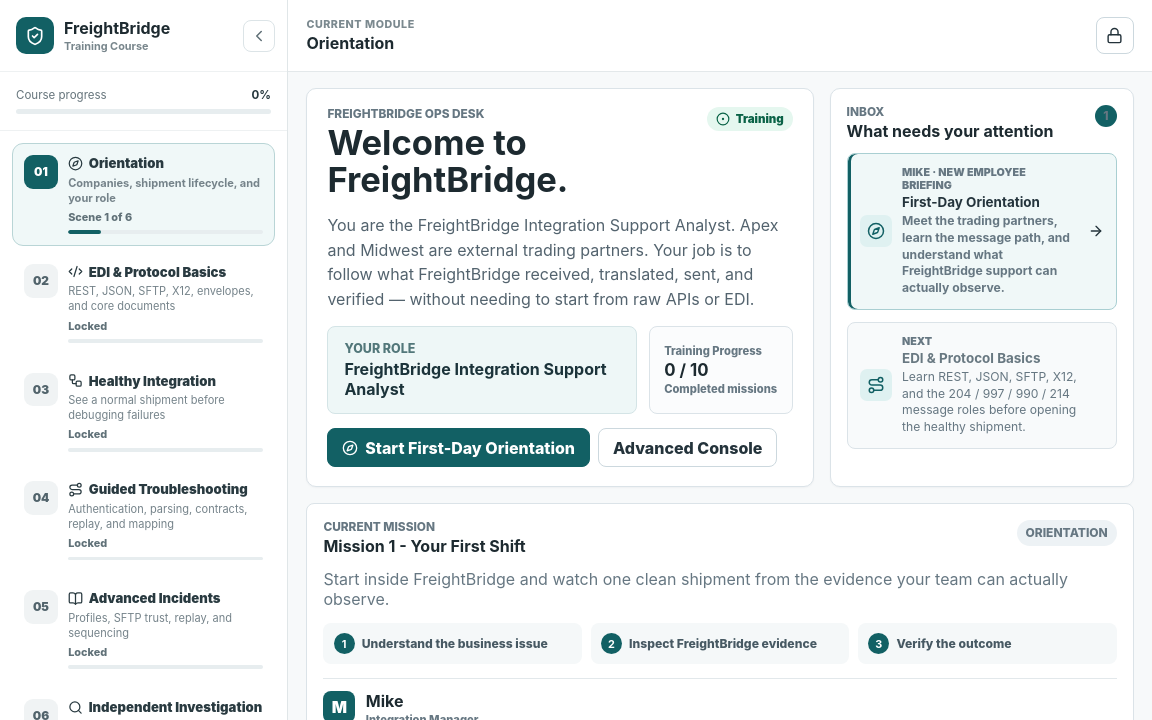
Test: Analyst Console › renders Training Home and navigates to the Advanced Console
Check: the element with test id "training-desk" is shown, box left=306, top=88, right=814, bottom=487
Check: the element with test id "ops-inbox" shows "Inbox", box left=847, top=105, right=884, bottom=119
What coordinates should you click on to do the following:
click the button named "Collapse course outline"
I would click on:
 (259, 36)
Its box is left=243, top=20, right=275, bottom=52.
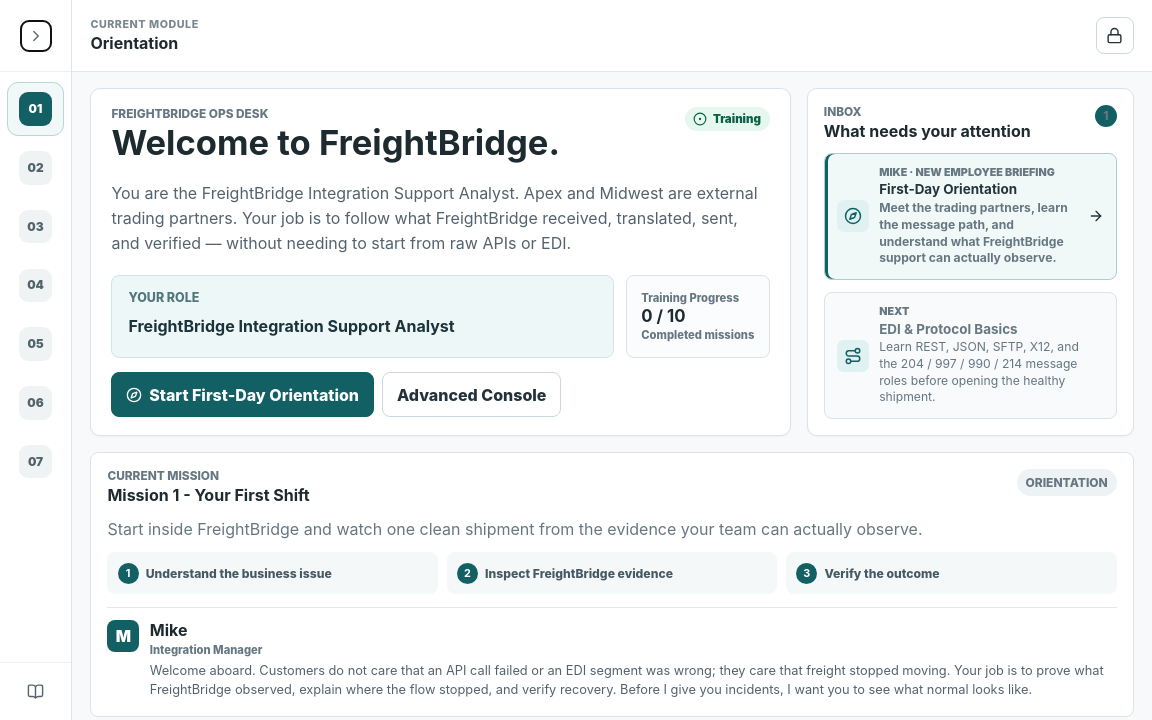
Check: the button named "Expand course outline" is shown, box left=20, top=20, right=52, bottom=52
What coordinates should you click on to do the following:
click the link named "Advanced Console"
I would click on:
 (36, 692)
Its box is left=27, top=683, right=44, bottom=700.
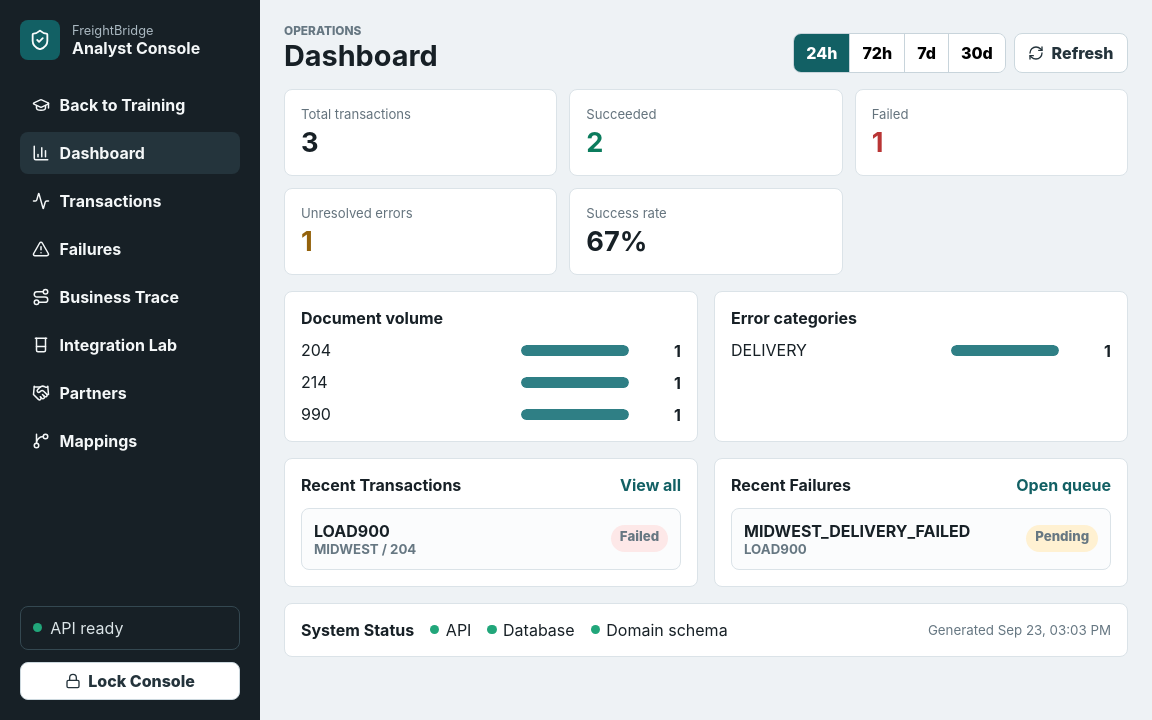
Check: the element with test id "dashboard-page" is shown
Check: the link "Back to Training" is shown, box left=32, top=95, right=185, bottom=115
